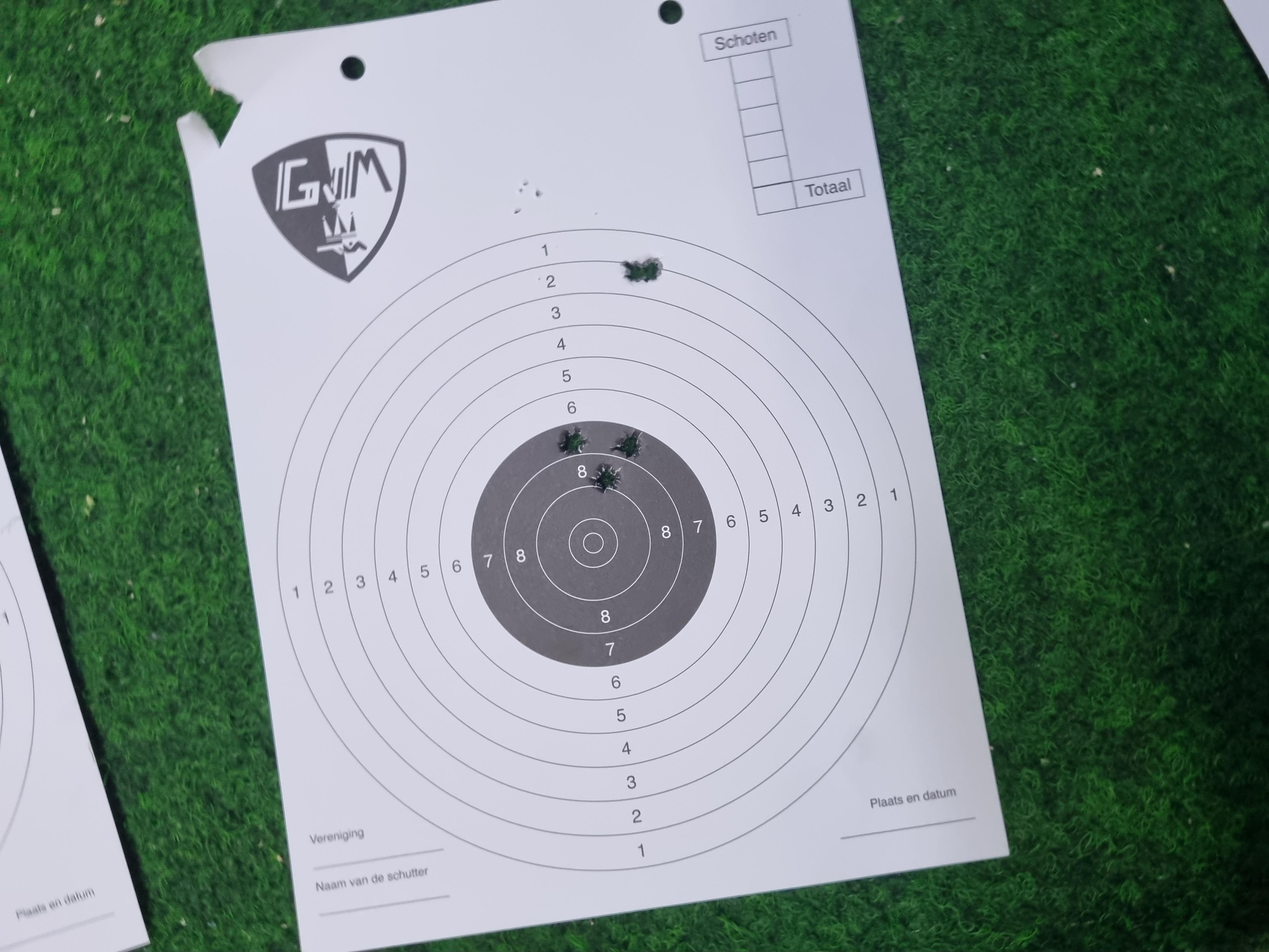hole: (612, 441, 651, 467), (659, 458, 698, 483), (660, 418, 699, 441), (897, 481, 925, 497), (894, 467, 921, 482)
